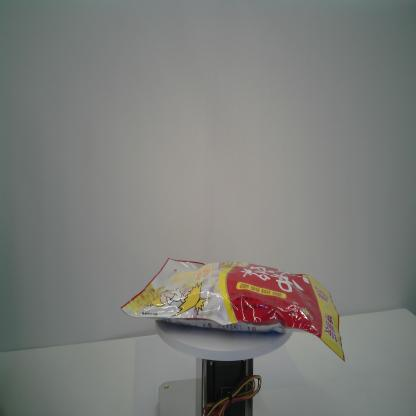Instant Drink: (119, 259, 346, 364)
